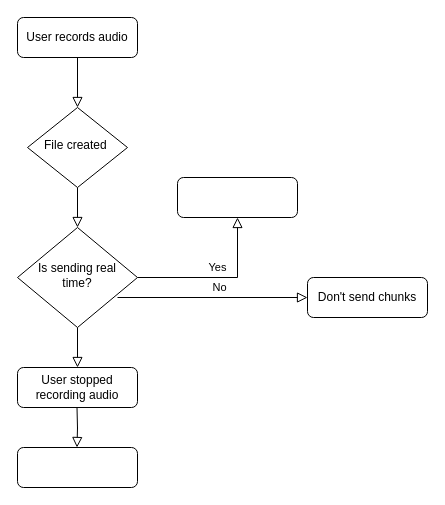
Image size: 445x505. Some labels were removed from this diagram. Each missing label, with the centre of its shape:
"Send chunks" belongs at (237,197).
"Upload file to azure" belongs at (77,467).
